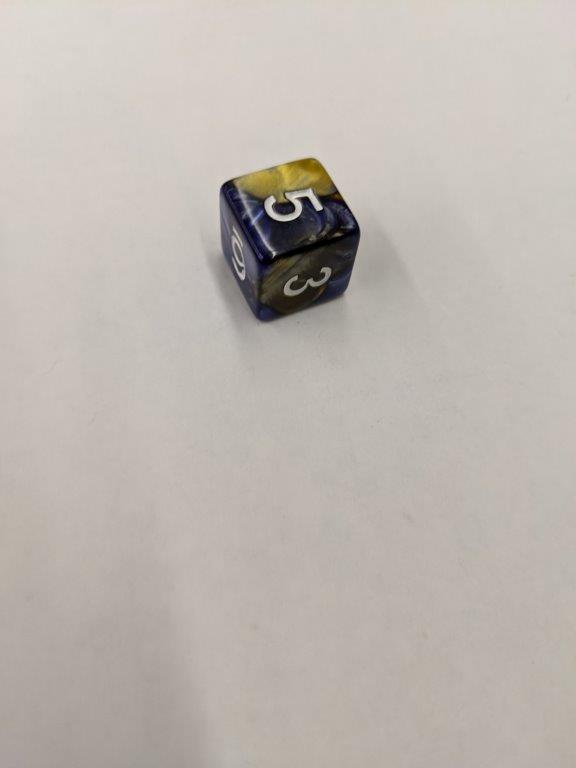d6-5: (220, 158, 360, 321)
